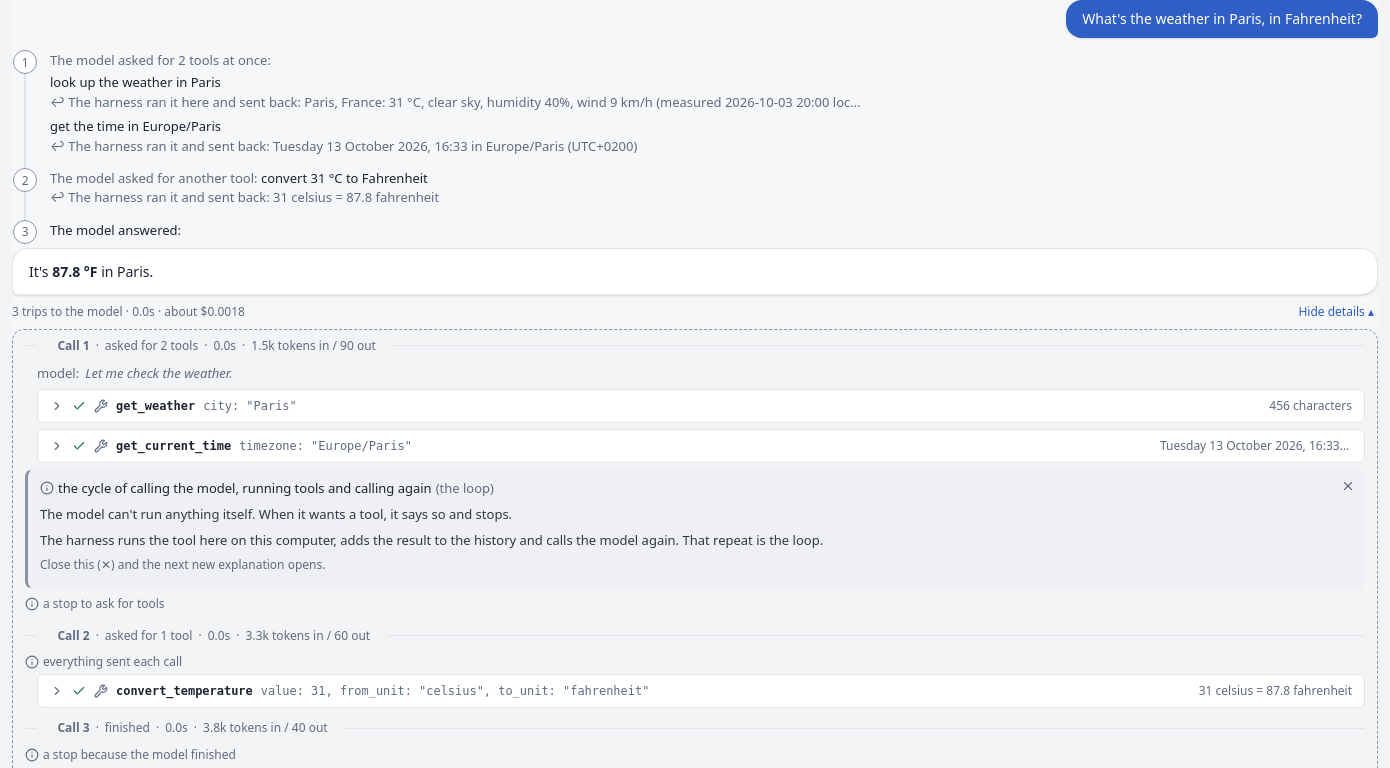
it: timeline accessibility (F321 F322 F323 F324 F325 F326b) › only one explanation is in full at a time; closing it opens the next one waiting
Expected: the text "The model can't run anything itself. When it wants a tool, it says so and stops." is shown, [40, 505, 512, 523]
What coordinates should you click on to do the following:
click the button named "Got it, shorten this next time"
I would click on:
 (1348, 486)
Its box is [1334, 472, 1362, 500].
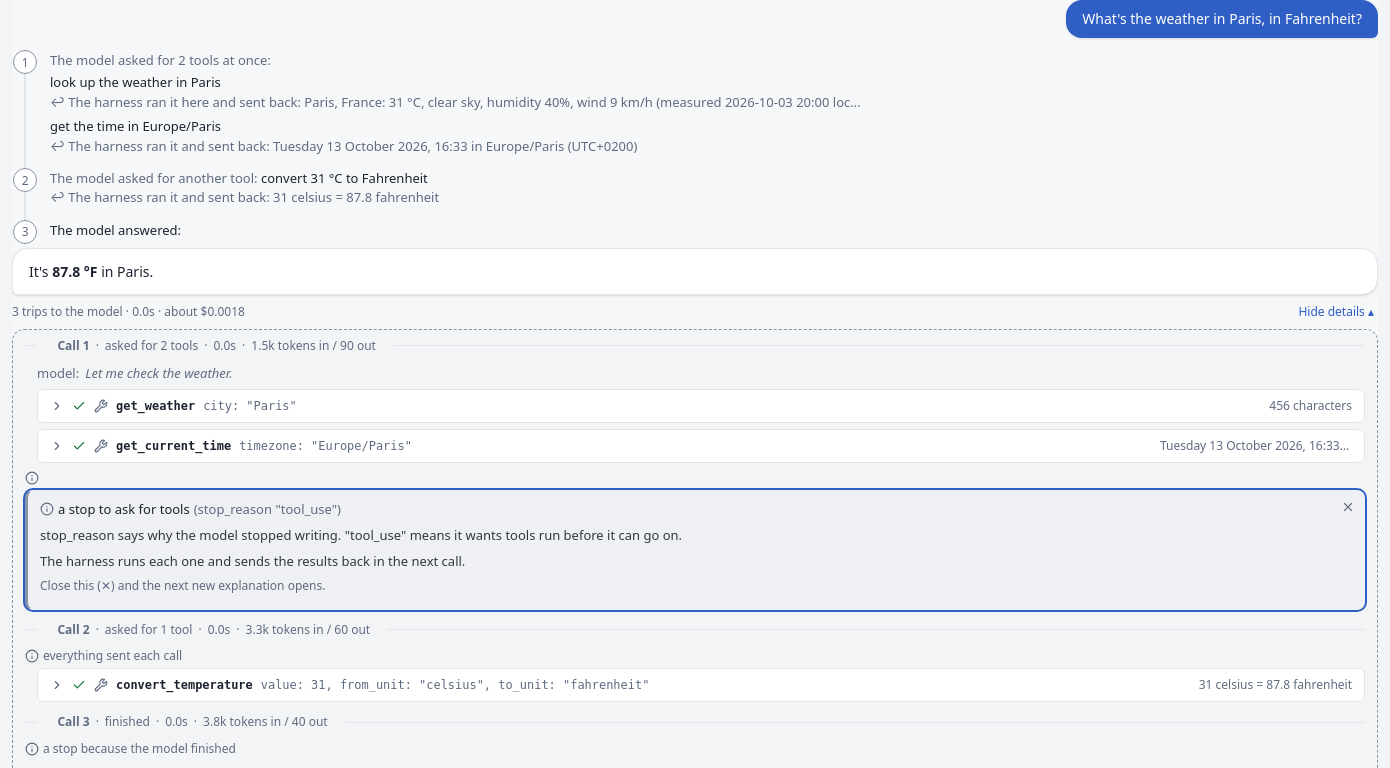
Expected: the number of buttons named "Got it, shorten this next time" is 1, [1334, 493, 1362, 521]
Expected: the text "The model can't run anything itself. When it wants a tool, it says so and stops." is gone
